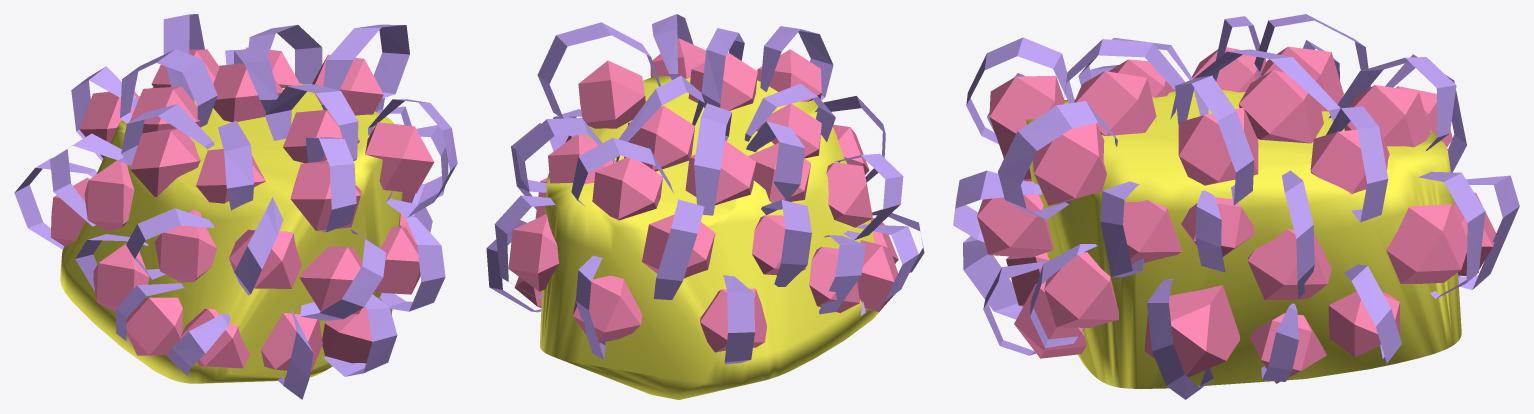
The model's file is abstractbush.fbx.
3 views of the same model, side by side, from view 1: azimuth 30°, elevation 25°; view 2: azimuth 150°, elevation 25°; view 3: azimuth 270°, elevation 25° (orthographic). The views are drawn at different scales.
Parts seen in each view (by area): view 1: abstractbush; view 2: abstractbush; view 3: abstractbush.
Part boxes in pixels (left/top/right/bottom): abstractbush: left=14, top=14, right=457, bottom=399; abstractbush: left=486, top=14, right=924, bottom=399; abstractbush: left=953, top=14, right=1519, bottom=399.
Bounding box in the file's own units: 148 × 125 × 181.
